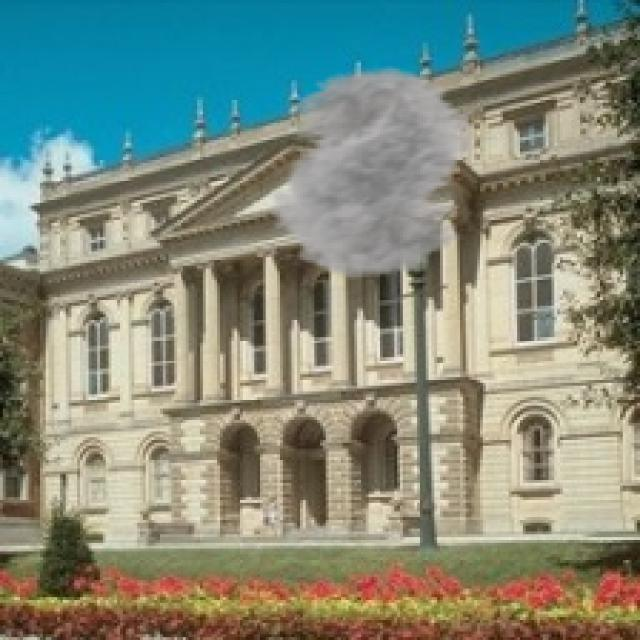smoke: (248, 66, 503, 280)
